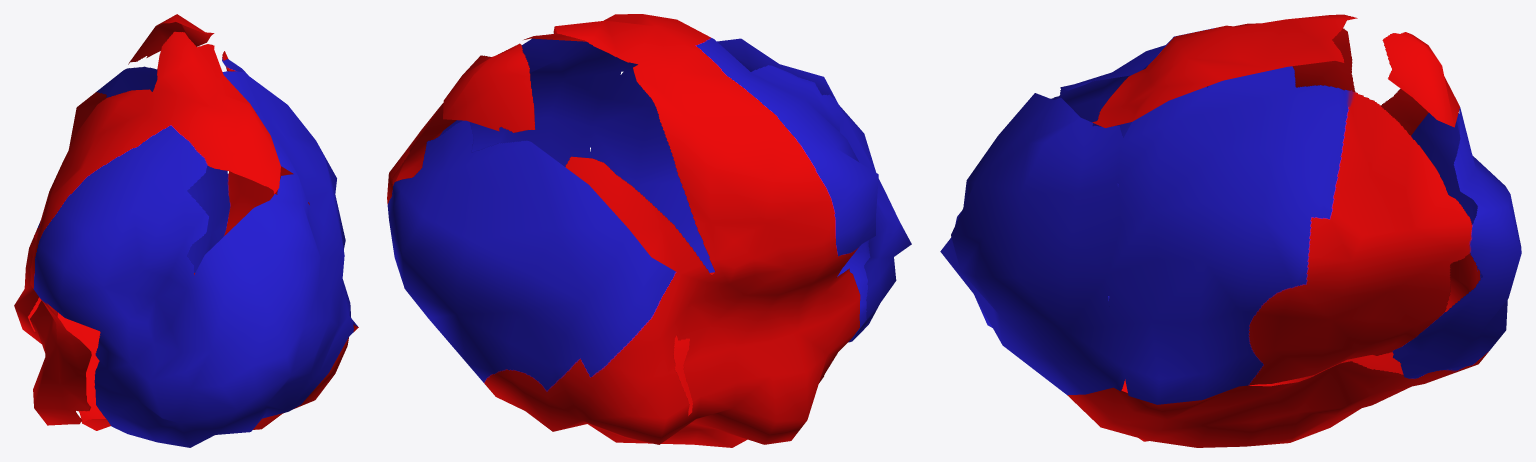
Rendered from rock.obj.
The picture shows the model from 3 angles, left to right: view 1: azimuth 30°, elevation 25°; view 2: azimuth 150°, elevation 25°; view 3: azimuth 270°, elevation 25°; orthographic projection. The views are drawn at different scales.
Parts seen in each view (by area): view 1: Asteroid_1; view 2: Asteroid_1; view 3: Asteroid_1.
Part boxes in pixels (box(x1,y1,x2,y2)): Asteroid_1: box(14, 14, 358, 447); Asteroid_1: box(387, 14, 911, 447); Asteroid_1: box(940, 14, 1521, 447).
Bounding box in the file's own units: 4.44 × 4.67 × 5.54.
